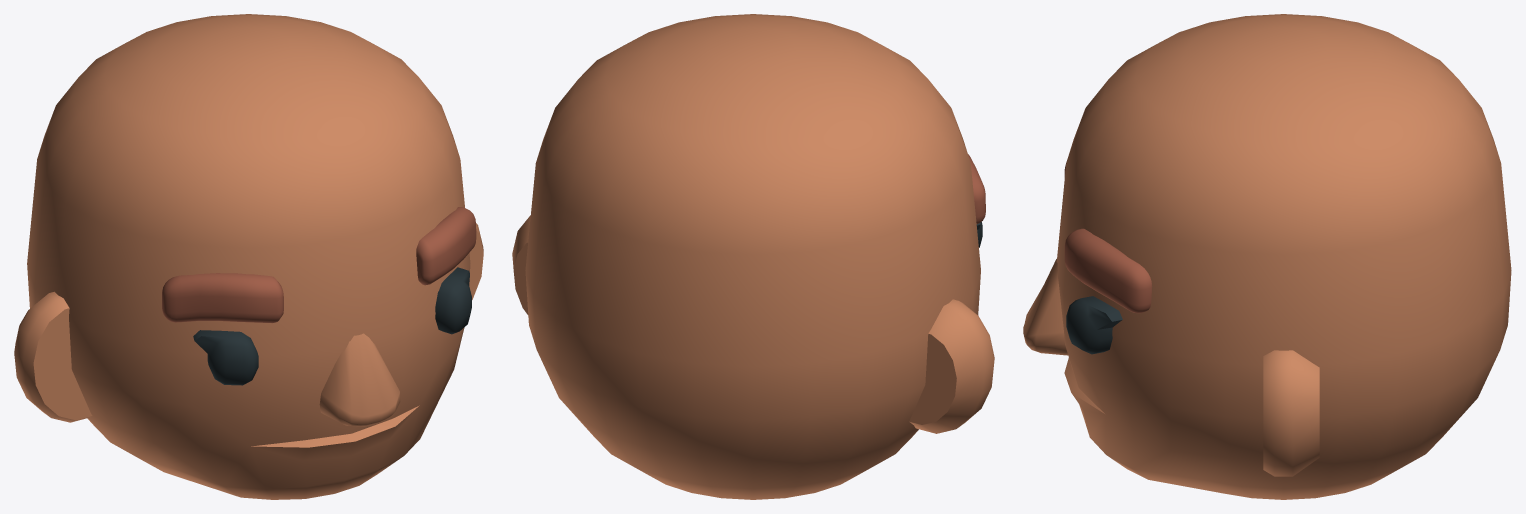
Rendered from mageHeadB.fbx.
3 views of the same model, side by side, from view 1: azimuth 30°, elevation 25°; view 2: azimuth 150°, elevation 25°; view 3: azimuth 270°, elevation 25° (orthographic). The views are drawn at different scales.
Visible parts, largest first — view 1: mageHeadB; view 2: mageHeadB; view 3: mageHeadB.
Part boxes in pixels (x1,y1,x2,y2): mageHeadB: [14, 14, 483, 499]; mageHeadB: [512, 14, 994, 499]; mageHeadB: [1023, 14, 1511, 499].
Bounding box in the file's own units: 1.18 × 0.9703 × 1.05.
